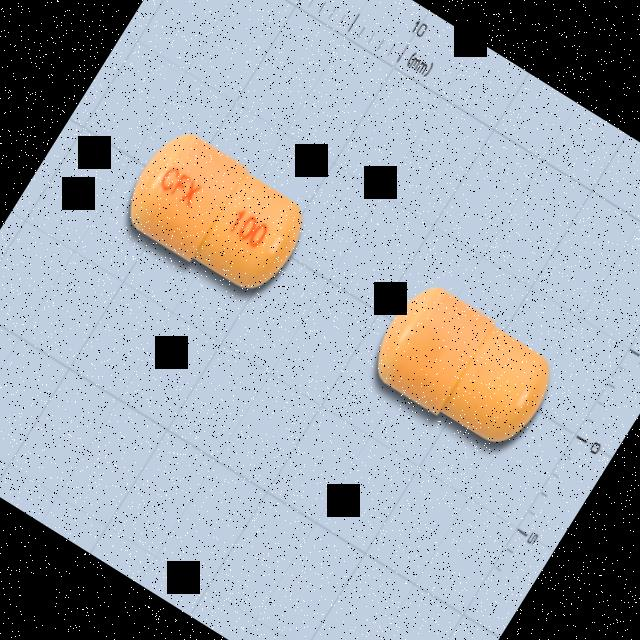Kukje Cefixime Cap: (114, 120, 319, 306)
